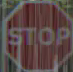Stop: (4, 4, 70, 64)
